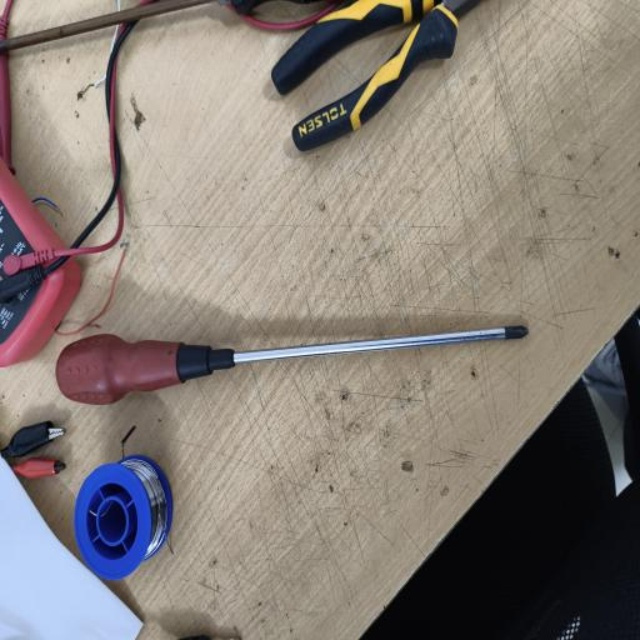screwdriver: (55, 322, 529, 406)
